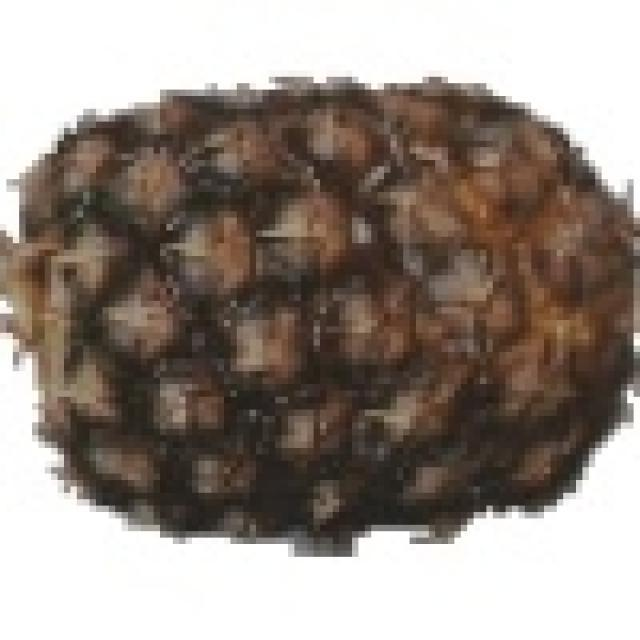pineapple: (6, 70, 621, 531)
